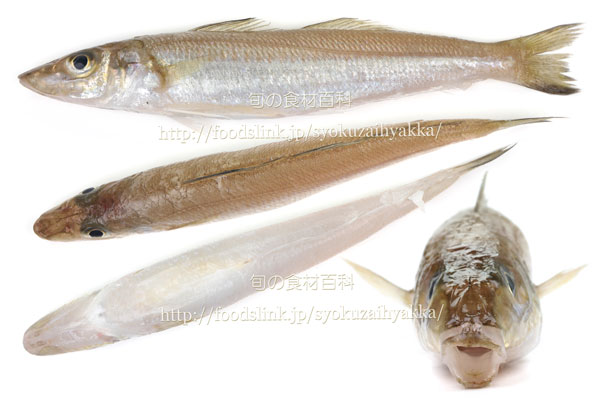kiss: (12, 13, 595, 126)
